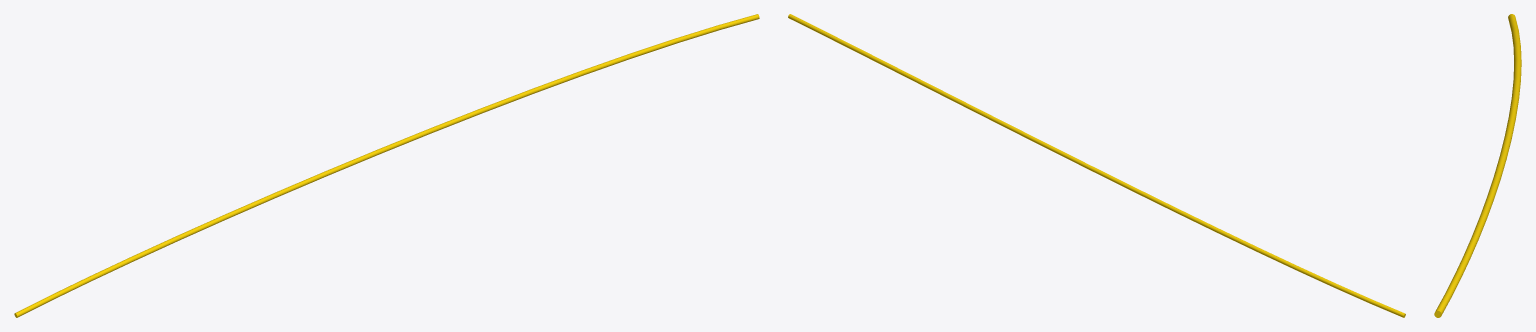
File: Event_421115418_track_58.fbx
The picture shows the model from 3 angles, left to right: view 1: azimuth 30°, elevation 25°; view 2: azimuth 150°, elevation 25°; view 3: azimuth 270°, elevation 25°; orthographic projection. The views are drawn at different scales.
Parts seen in each view (by area): view 1: Model; view 2: Model; view 3: Model.
Part boxes in pixels (x1,y1,x2,y2): Model: (14,14,759,317); Model: (788,14,1405,317); Model: (1434,14,1521,317).
Bounding box in the file's own units: 6.35 × 1.25 × 0.466.
